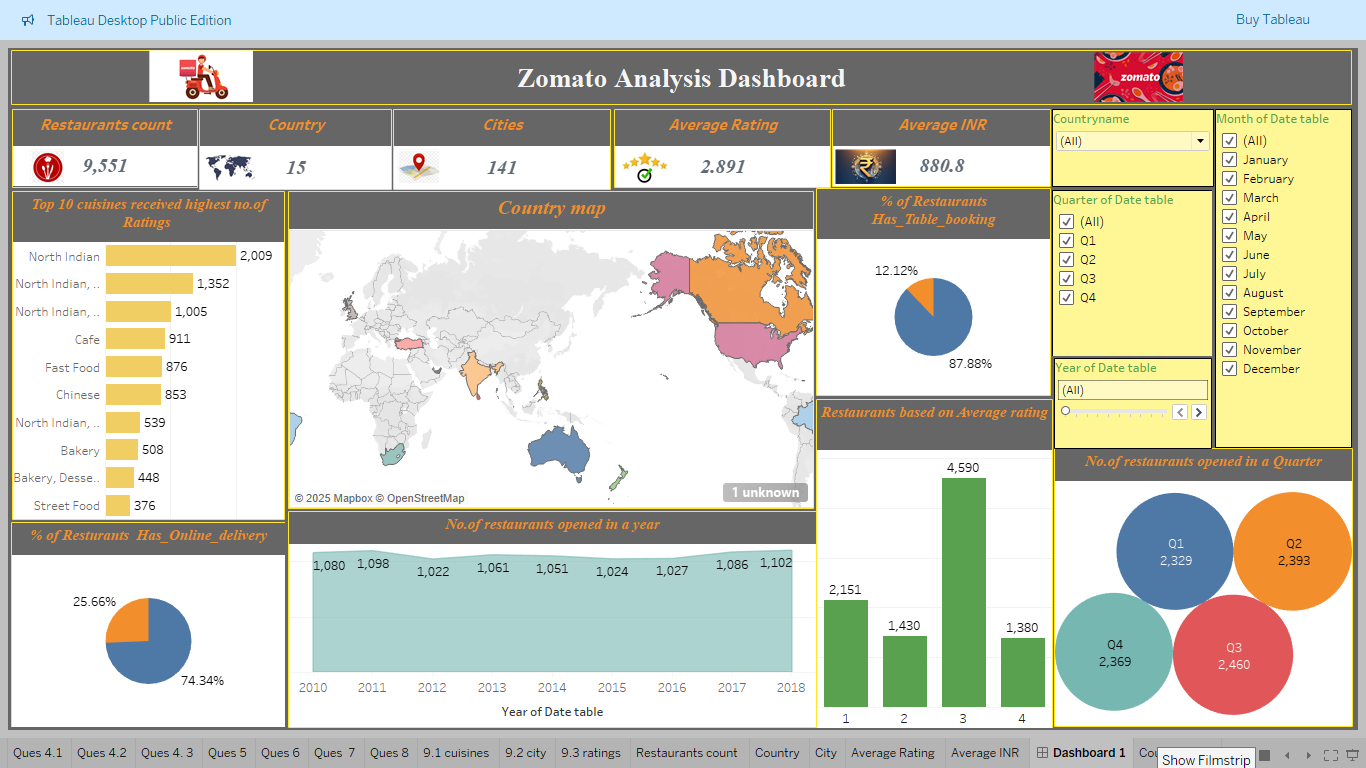

The page's visual inventory and layout, read from the dashboard file:
{"tool":"tableau","page":{"name":"Dashboard 1","canvas":[1000,1000],"units":"permille","ordinal":0},"visuals":[{"type":"text","box":[7.9,14.9,981.6,78.4]},{"type":"image","param":"Image/Zomato images.png","box":[108.9,14.9,107.1,74.6]},{"type":"image","param":"Image/Zomato im.jpg","box":[800.7,16.9,144,72.1]},{"type":"filter","title":"Average INR","param":"[federated.18wjlec0wt7tcm15e60zw1mw4sp7].[mn:Calculation_825847635026563073:ok]","box":[889.4,98.2,100.1,486.2]},{"type":"worksheet","title":"Restaurants count","mark":"Automatic","box":[8.8,98.9,136.1,113.8]},{"type":"worksheet","title":"Country","mark":"Automatic","box":[145.7,98.9,141.3,115.7]},{"type":"worksheet","title":"City","mark":"Automatic","box":[288,98.9,159.8,115.7]},{"type":"worksheet","title":"Average Rating","mark":"Automatic","box":[449.5,98.9,158.9,113.8]},{"type":"worksheet","title":"Average INR","mark":"Automatic","box":[609.3,98.9,160.7,111.9]},{"type":"filter","title":"Average INR","param":"[federated.18wjlec0wt7tcm15e60zw1mw4sp7].[none:Countryname:nk]","box":[770,98.9,118.5,111.9]},{"type":"image","param":"Image/cuisine im.jpg","box":[21.9,156.4,88.7,50.6]},{"type":"image","param":"Image/city map image.png","box":[290.6,156.4,59.7,50.6]},{"type":"image","param":"Image/inr logo.jpeg","box":[611.1,156.4,58.8,50.6]},{"type":"image","param":"Image/Rating im.jpg","box":[453,158,53.6,49.1]},{"type":"image","param":"Image/Country map logo.jpg","box":[149.2,162.6,50.9,41.4]},{"type":"worksheet","title":"Ques  7","mark":"Pie","box":[597,212.7,172.1,298.5]},{"type":"filter","title":"Average INR","param":"[federated.18wjlec0wt7tcm15e60zw1mw4sp7].[qr:Calculation_825847635026563073:ok]","box":[770,214.6,117.7,238.8]},{"type":"worksheet","title":"9.3 ratings","mark":"Automatic","rows":["Cuisines"],"cols":["Rating"],"box":[8.8,216.3,200.2,470.9]},{"type":"worksheet","title":"Country map","mark":"Multipolygon","box":[210.7,216.3,385.4,455.5]},{"type":"filter","title":"Average INR","param":"[federated.18wjlec0wt7tcm15e60zw1mw4sp7].[yr:Calculation_825847635026563073:ok]","box":[771.7,455.2,115.9,130.6]},{"type":"worksheet","title":"Ques 5","mark":"Automatic","rows":["RestaurantName"],"cols":["Rating (bin)"],"box":[597,513.8,173.8,472.4]},{"type":"worksheet","title":"Ques 4.2","mark":"Circle","box":[771.7,584.4,218.6,400.3]},{"type":"worksheet","title":"Ques 4.1","mark":"Area","rows":["RestaurantName"],"cols":["Calculation_825847635026563073"],"box":[210.7,674.9,387.2,311.4]},{"type":"worksheet","title":"Ques 8","mark":"Pie","box":[7.9,690.2,201.1,294.5]}]}

Visuals, with their boxes on the dashboard's canvas, which has no fixed pixel size, in thousandths of its width and height (x1, y1, x2, y2). These are canvas units, not pixel positions in the 1366x768 screenshot, which may show the page scaled, cropped or inside an application window:
text: region(8, 15, 990, 93)
image: region(109, 15, 216, 90)
image: region(801, 17, 945, 89)
"Average INR" filter: region(889, 98, 990, 584)
"Restaurants count" worksheet: region(9, 99, 145, 213)
"Country" worksheet: region(146, 99, 287, 215)
"City" worksheet: region(288, 99, 448, 215)
"Average Rating" worksheet: region(450, 99, 608, 213)
"Average INR" worksheet: region(609, 99, 770, 211)
"Average INR" filter: region(770, 99, 888, 211)
image: region(22, 156, 111, 207)
image: region(291, 156, 350, 207)
image: region(611, 156, 670, 207)
image: region(453, 158, 507, 207)
image: region(149, 163, 200, 204)
"Ques  7" worksheet (Pie marks): region(597, 213, 769, 511)
"Average INR" filter: region(770, 215, 888, 453)
"9.3 ratings" worksheet: region(9, 216, 209, 687)
"Country map" worksheet (Multipolygon marks): region(211, 216, 596, 672)
"Average INR" filter: region(772, 455, 888, 586)
"Ques 5" worksheet: region(597, 514, 771, 986)
"Ques 4.2" worksheet (Circle marks): region(772, 584, 990, 985)
"Ques 4.1" worksheet (Area marks): region(211, 675, 598, 986)
"Ques 8" worksheet (Pie marks): region(8, 690, 209, 985)
